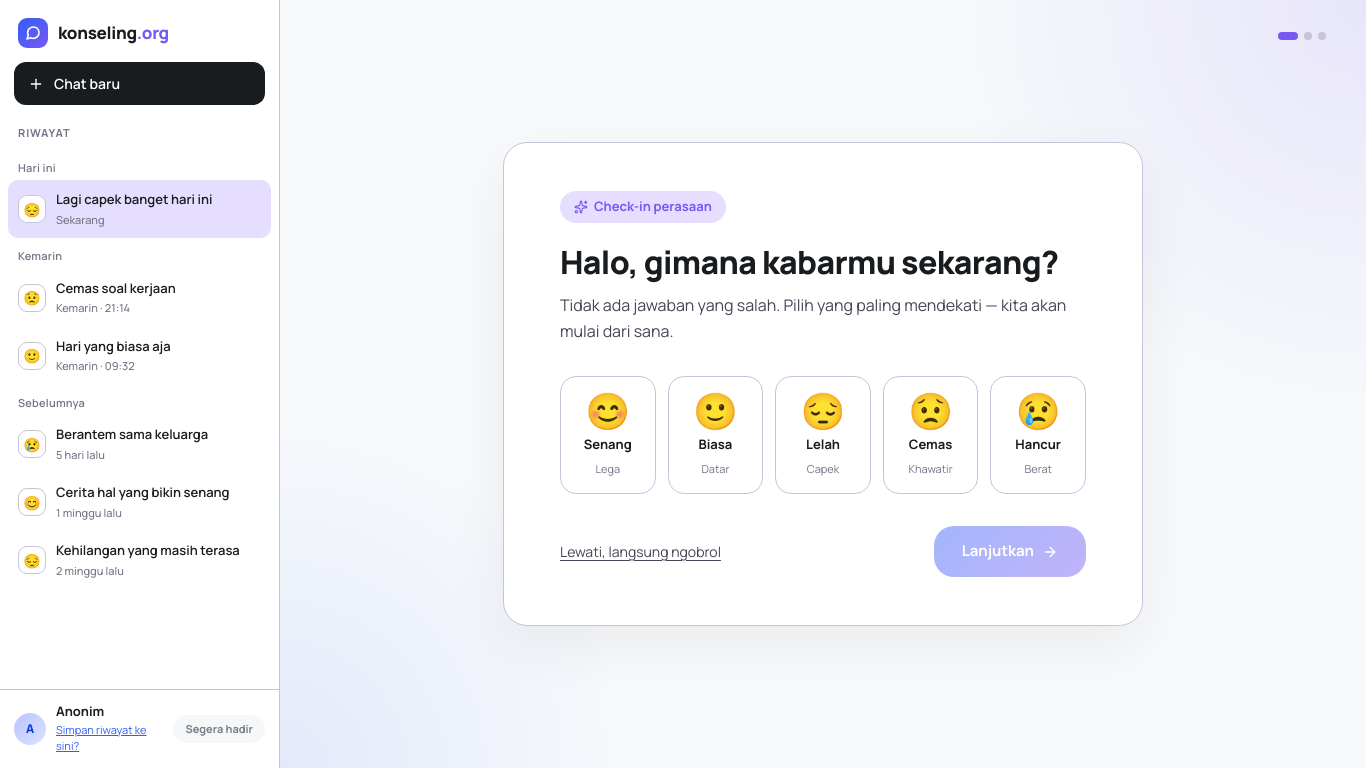
Scenario: ChatExperience › shows the crisis banner from a server risk event even when the client heuristic misses it
Click the button with aria-label "Biasa — Datar" at (715, 435), box [668,376,763,494]
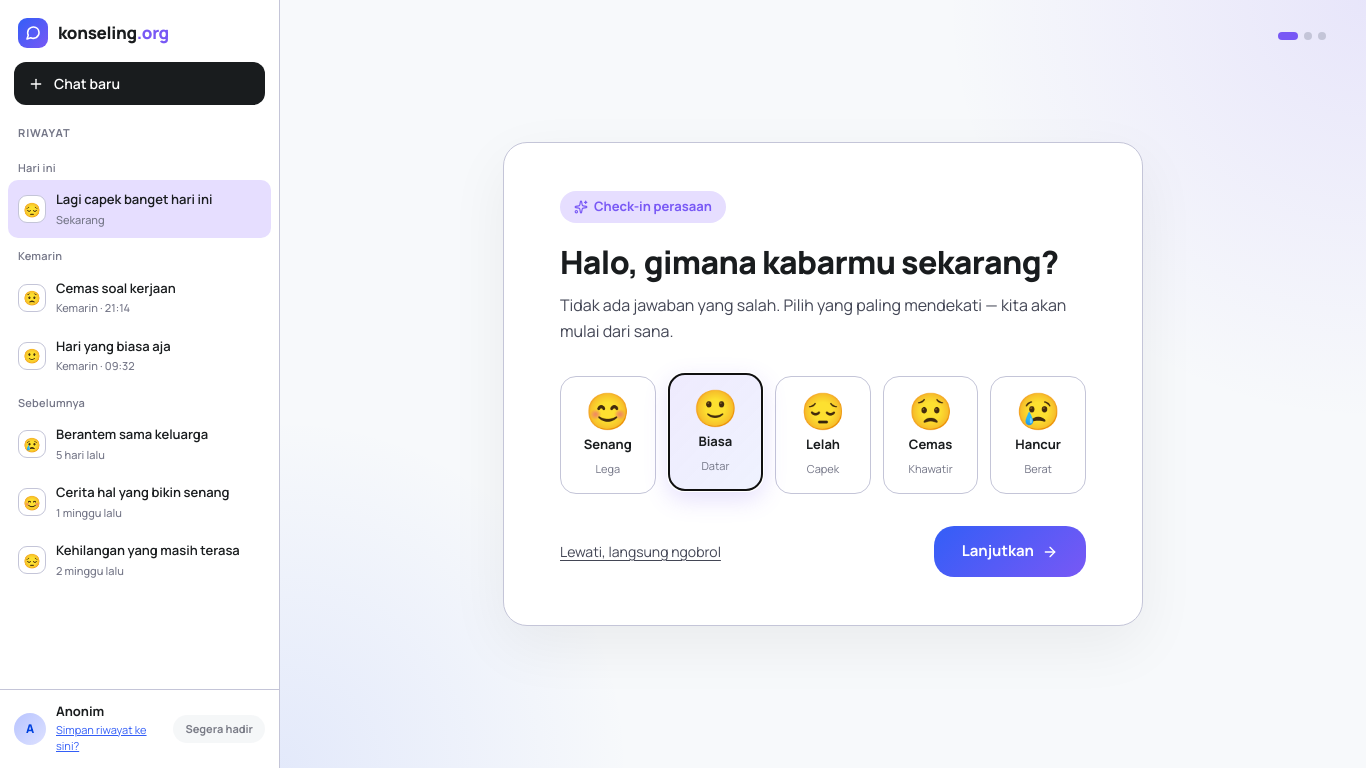
Click the button "Lanjutkan" at (1010, 552), box [934,526,1086,577]
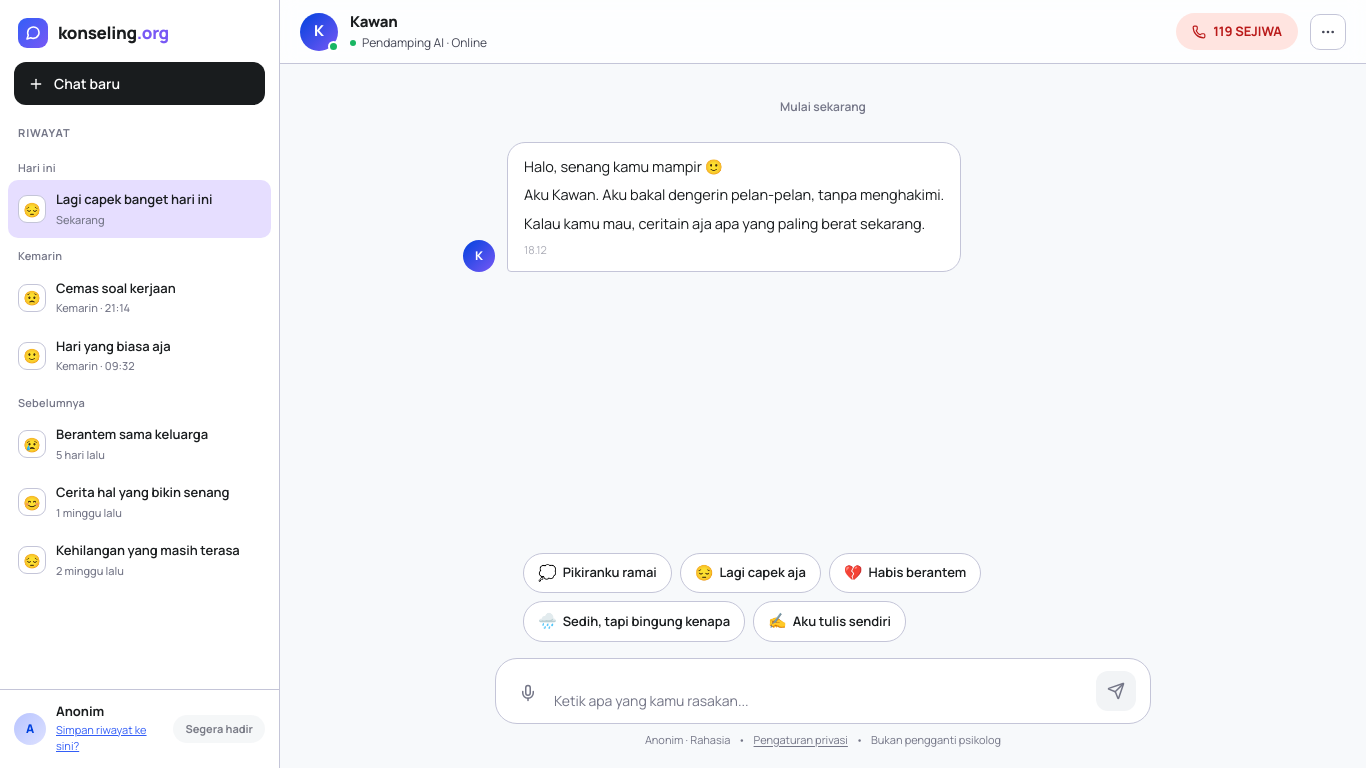
Expected: the text box named "Ketik pesan untuk Kawan" is shown
Type "Aku cuma capek banget hari ini" into the text box named "Ketik pesan untuk Kawan" at (821, 700), box [554,690,1088,710]
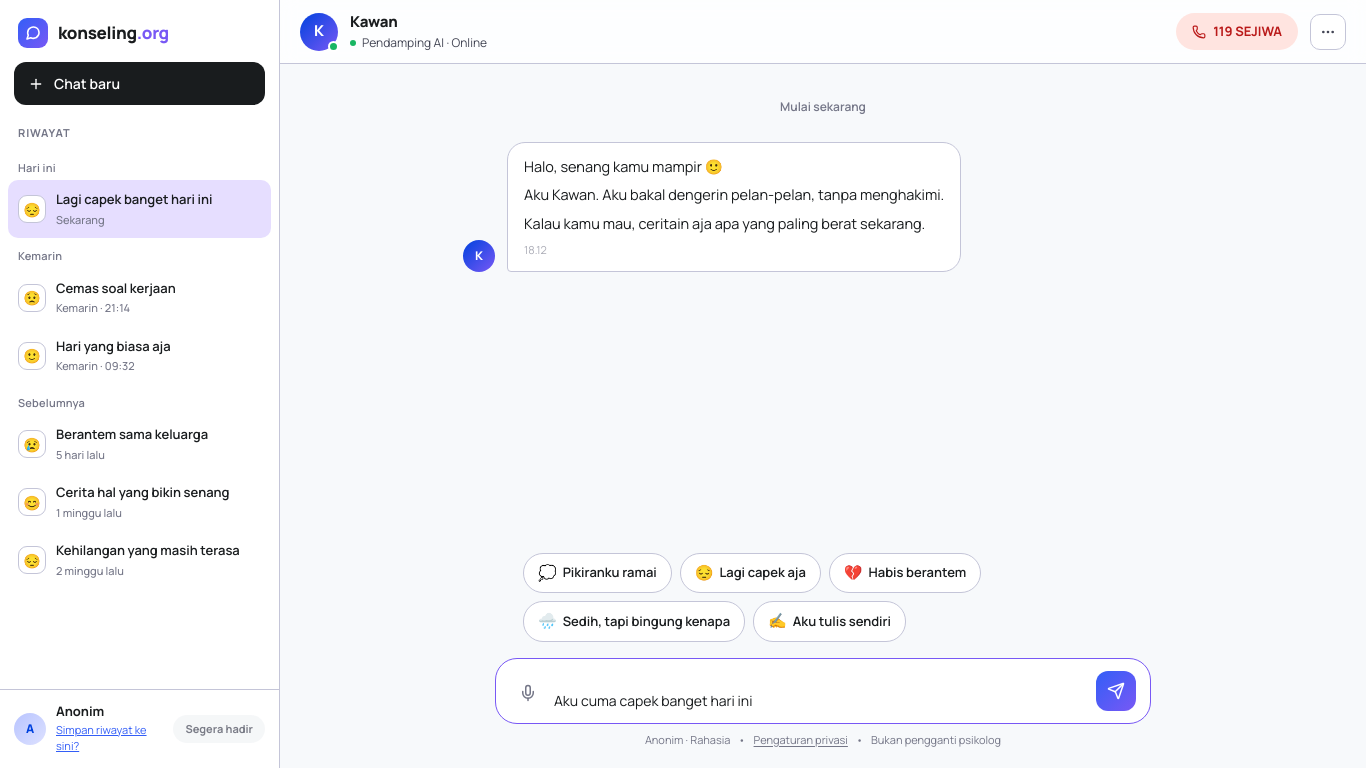
Click the button named "Kirim pesan" at (1116, 690), box [1096,670,1136,710]
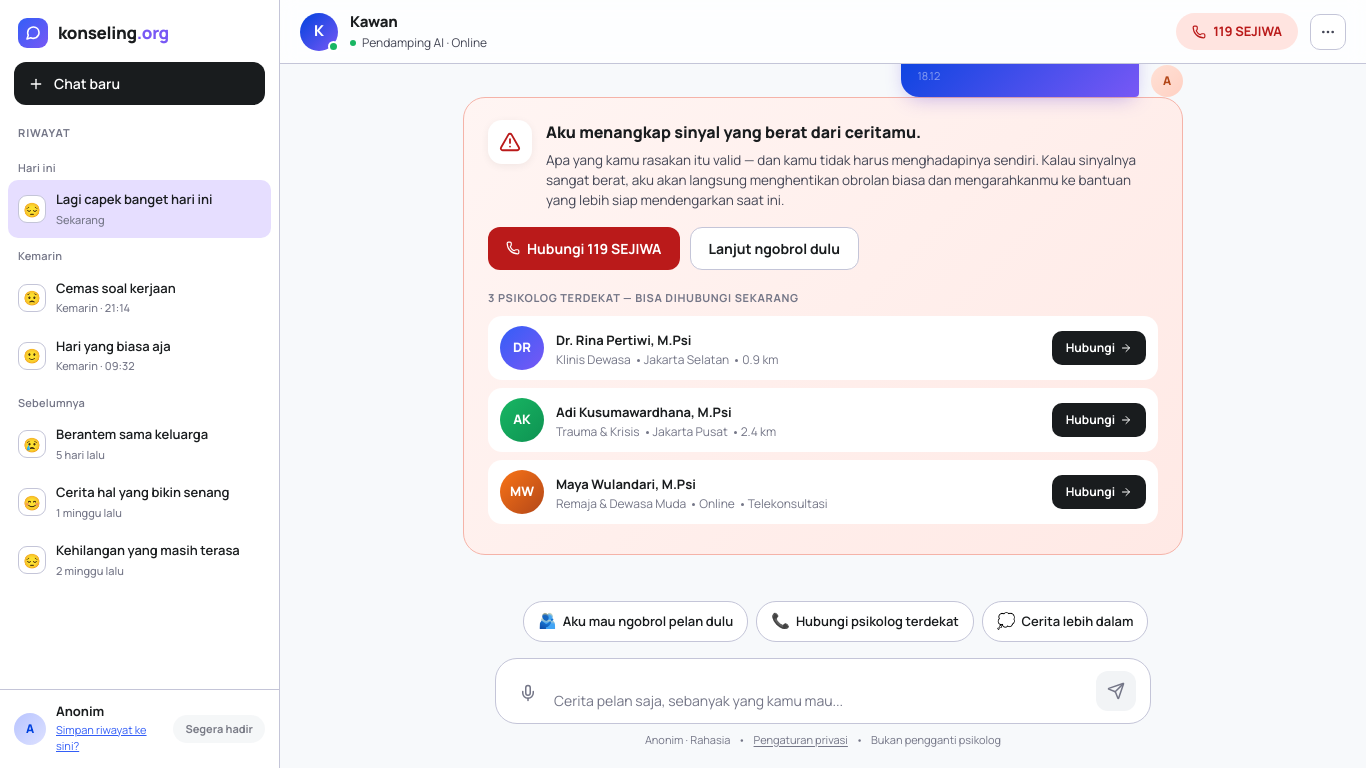
Expected: the message is shown, [463,97,1183,555]
